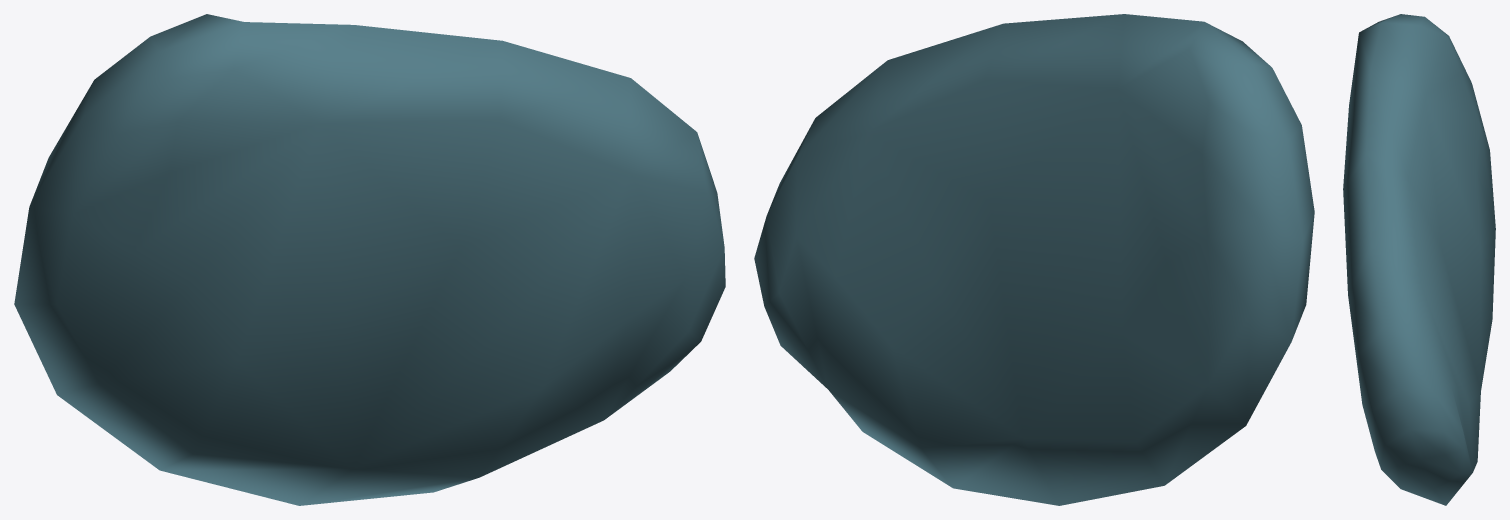
Rendered from Geniohyoid_muscle_mandible_right.glb.
3 renders of one model, left to right at view 1: azimuth 30°, elevation 25°; view 2: azimuth 150°, elevation 25°; view 3: azimuth 270°, elevation 25°, orthographic. The views are drawn at different scales.
Parts seen in each view (by area): view 1: Geniohyoid_muscle_on_mandible.r_Generated_Mesh_From_X3D.952; view 2: Geniohyoid_muscle_on_mandible.r_Generated_Mesh_From_X3D.952; view 3: Geniohyoid_muscle_on_mandible.r_Generated_Mesh_From_X3D.952.
Boxes of the visible parts, x1,y1,x2,y2 form: Geniohyoid_muscle_on_mandible.r_Generated_Mesh_From_X3D.952: (14, 14, 725, 505); Geniohyoid_muscle_on_mandible.r_Generated_Mesh_From_X3D.952: (754, 14, 1314, 505); Geniohyoid_muscle_on_mandible.r_Generated_Mesh_From_X3D.952: (1343, 14, 1495, 505).
Bounding box in the file's own units: 0.00266 × 0.00219 × 0.00078.
